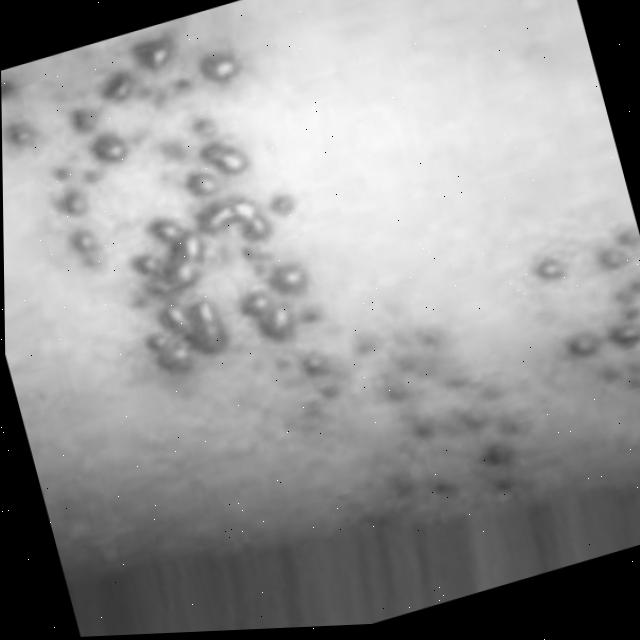Shingles: (0, 0, 554, 627), (517, 205, 640, 459)
